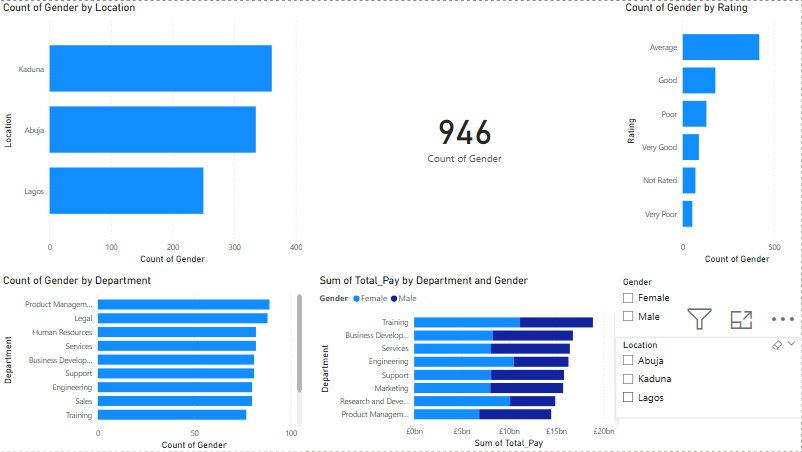

What the dashboard file says about the page in this screenshot:
{"tool":"powerbi","page":{"name":"Gender Distribution","canvas":[1280,720],"ordinal":0},"visuals":[{"type":"barChart","fields":{"Y":["CountNonNull(New File.Gender)"],"Category":["New File.Department"]},"box":[0,435,487,285],"z":0},{"type":"card","fields":{"Values":["CountNonNull(New File.Gender)"]},"box":[497,0,487,425],"z":1000},{"type":"barChart","fields":{"Y":["Sum(New File.Total_Pay)"],"Category":["New File.Department"],"Series":["New File.Gender"]},"box":[504.8,435.7,488.1,283.3],"z":2000},{"type":"barChart","fields":{"Category":["New File.Rating"],"Y":["CountNonNull(New File.Gender)"]},"box":[994,0,286,425],"z":3000},{"type":"barChart","fields":{"Y":["CountNonNull(New File.Gender)"],"Category":["New File.Location"]},"box":[0,0,487.1,425],"z":4000},{"type":"slicer","fields":{"Values":["New File.Gender"]},"box":[981,435.7,288.1,142.9],"z":5000},{"type":"slicer","fields":{"Values":["New File.Location"]},"box":[981,535.7,300,131],"z":6000}]}

Visuals, with their boxes in screenshot pixels (x1, y1, x2, y2), scaled from the page's 1280x720 canvas onto the 802x452 screenshot:
barChart - CountNonNull(New File.Gender) x New File.Department: (0, 273, 305, 451)
card - CountNonNull(New File.Gender): (311, 0, 617, 267)
barChart - Sum(New File.Total_Pay) x New File.Department: (316, 274, 622, 451)
barChart - New File.Rating x CountNonNull(New File.Gender): (623, 0, 801, 267)
barChart - CountNonNull(New File.Gender) x New File.Location: (0, 0, 305, 267)
slicer - New File.Gender: (615, 274, 795, 363)
slicer - New File.Location: (615, 336, 801, 419)
